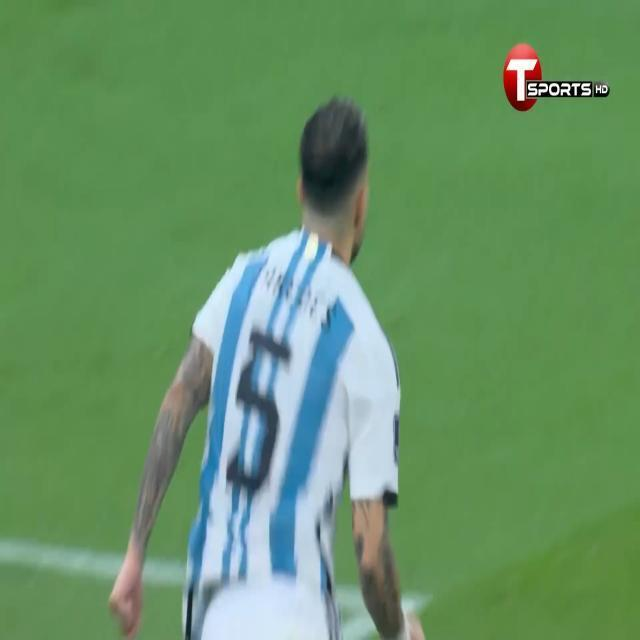player: (107, 36, 442, 640)
